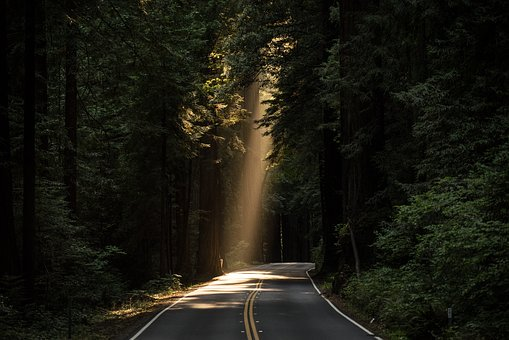forest: (6, 4, 509, 268)
